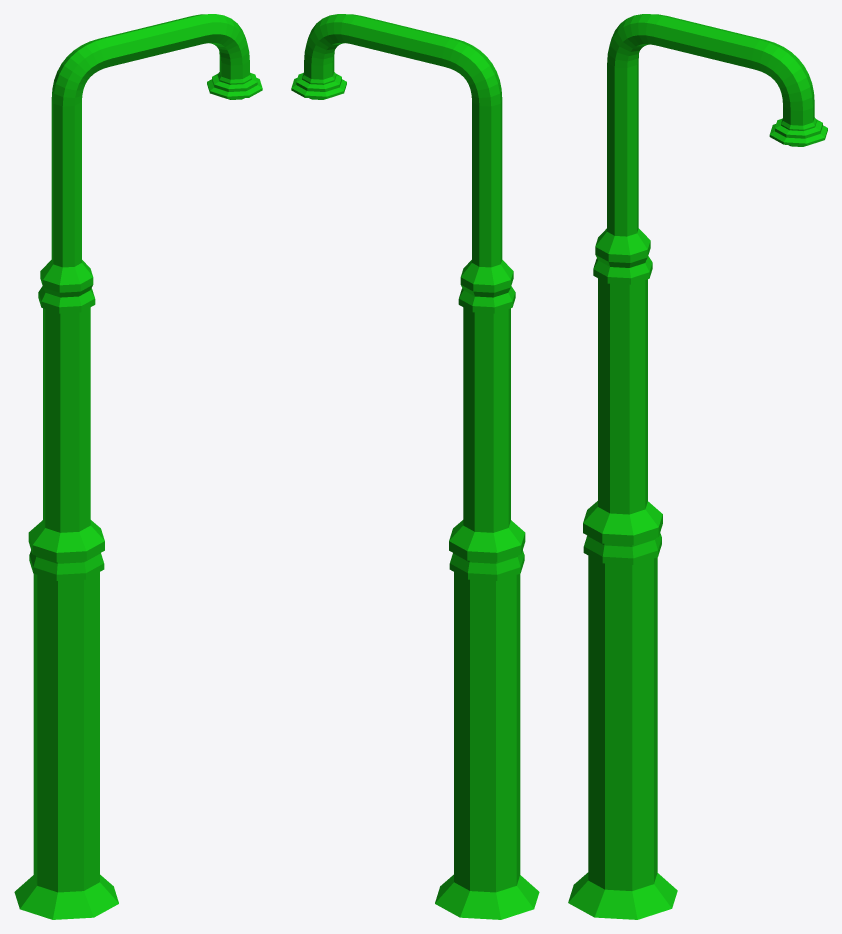
File: post1.obj
3 views of the same model, side by side, from view 1: azimuth 30°, elevation 25°; view 2: azimuth 150°, elevation 25°; view 3: azimuth 330°, elevation 25° (orthographic). The views are drawn at different scales.
Visible parts, largest first — view 1: Street_lamp_Cylinder; view 2: Street_lamp_Cylinder; view 3: Street_lamp_Cylinder.
Boxes of the visible parts, x1,y1,x2,y2 form: Street_lamp_Cylinder: (14, 14, 262, 919); Street_lamp_Cylinder: (291, 14, 539, 919); Street_lamp_Cylinder: (568, 14, 827, 919).
Size of the model in its own units: 4 by 13.55 by 1.57.
